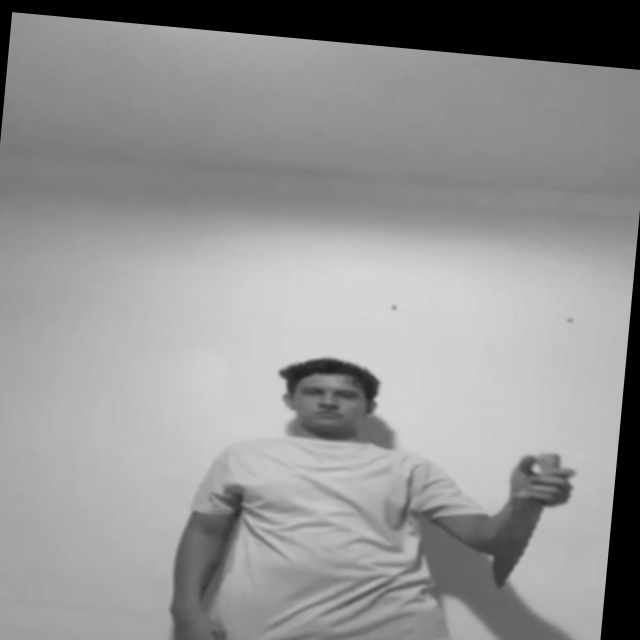Sharp-Object: (486, 497, 541, 590)
